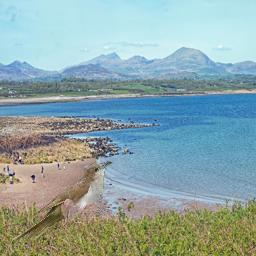Cuckoo: (11, 161, 113, 243)
